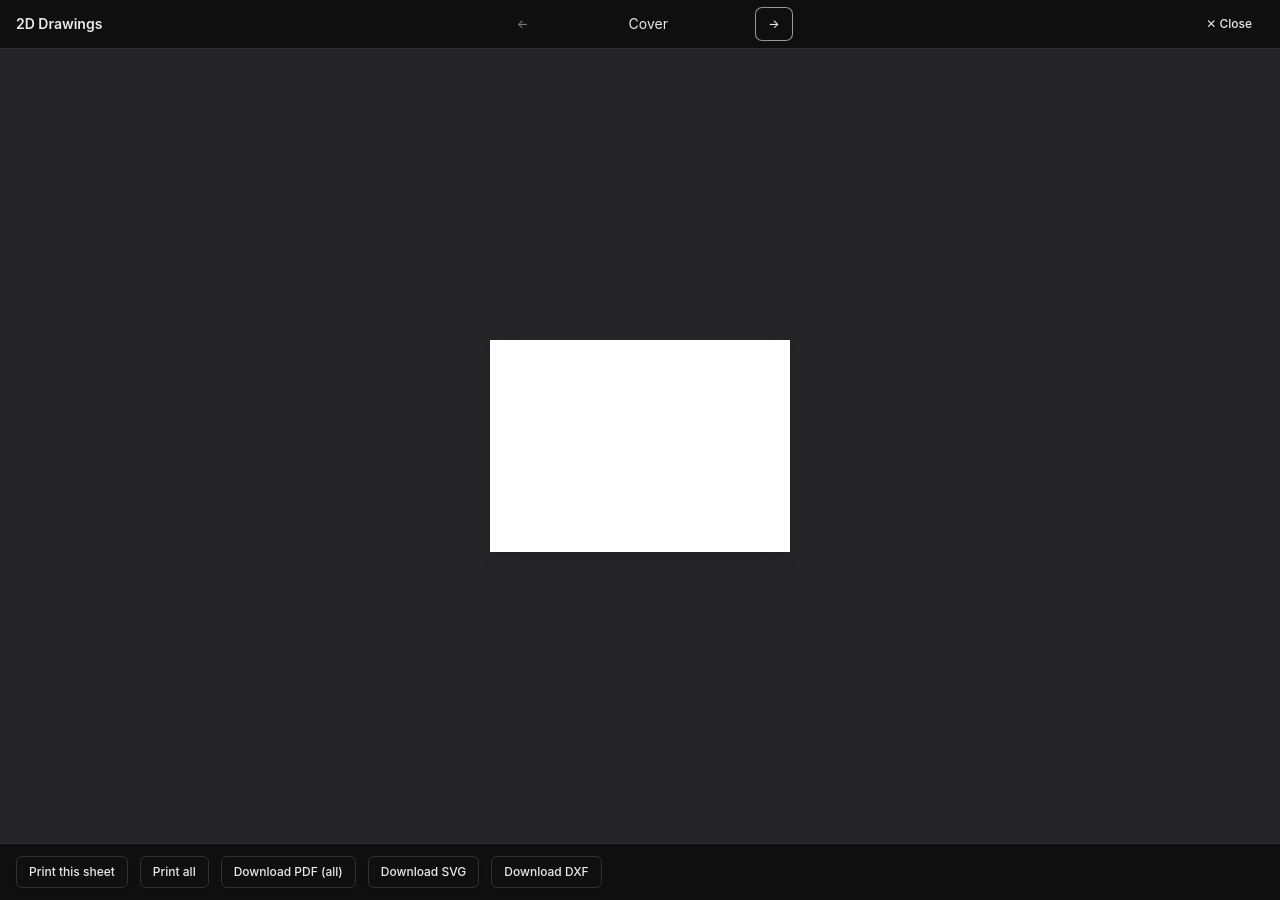
DrawingViewer › Prev button goes back to previous sheet
Click the button "→".
click(774, 24)  # box [756,8,792,40]
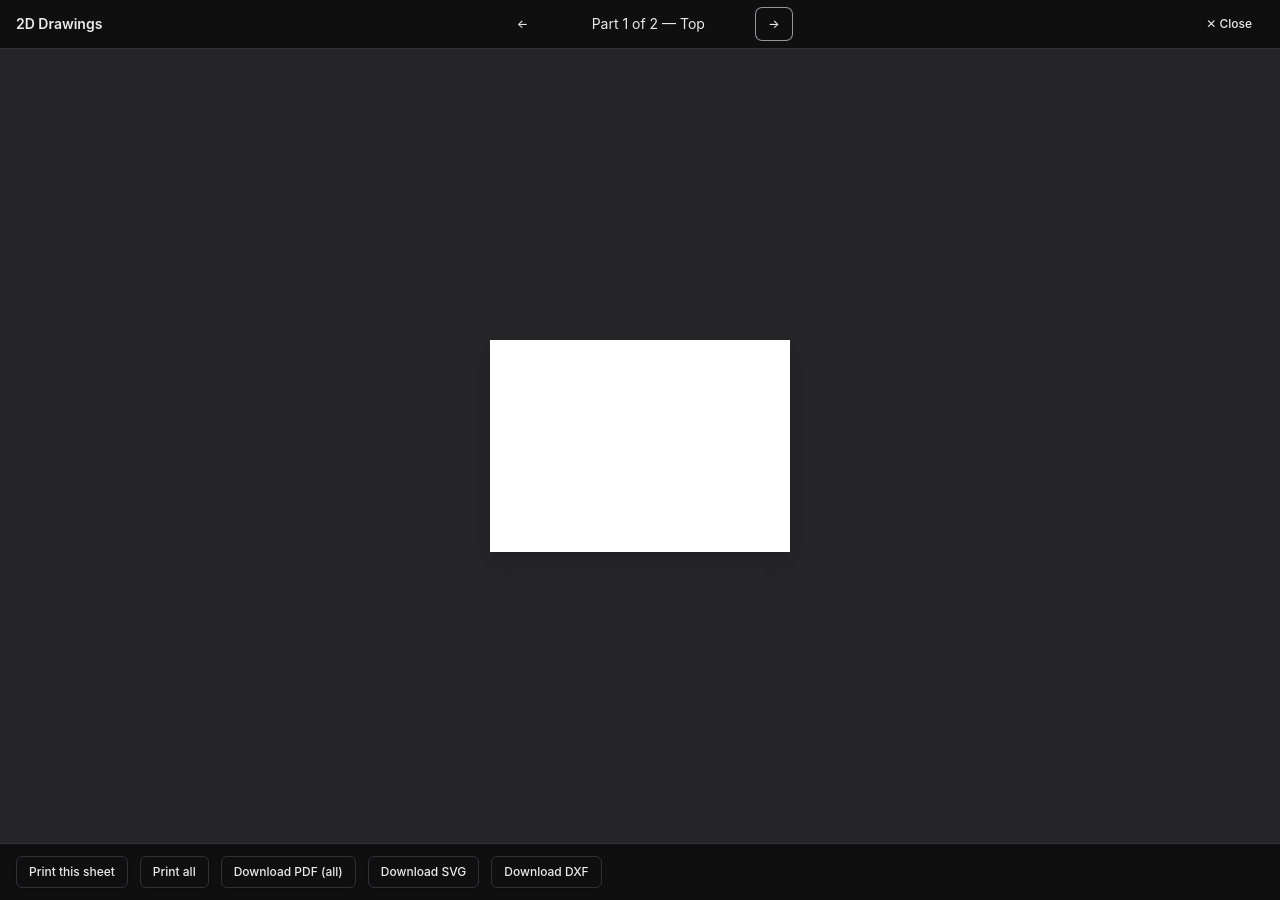
Click the button "←".
click(523, 24)  # box [505,8,540,40]
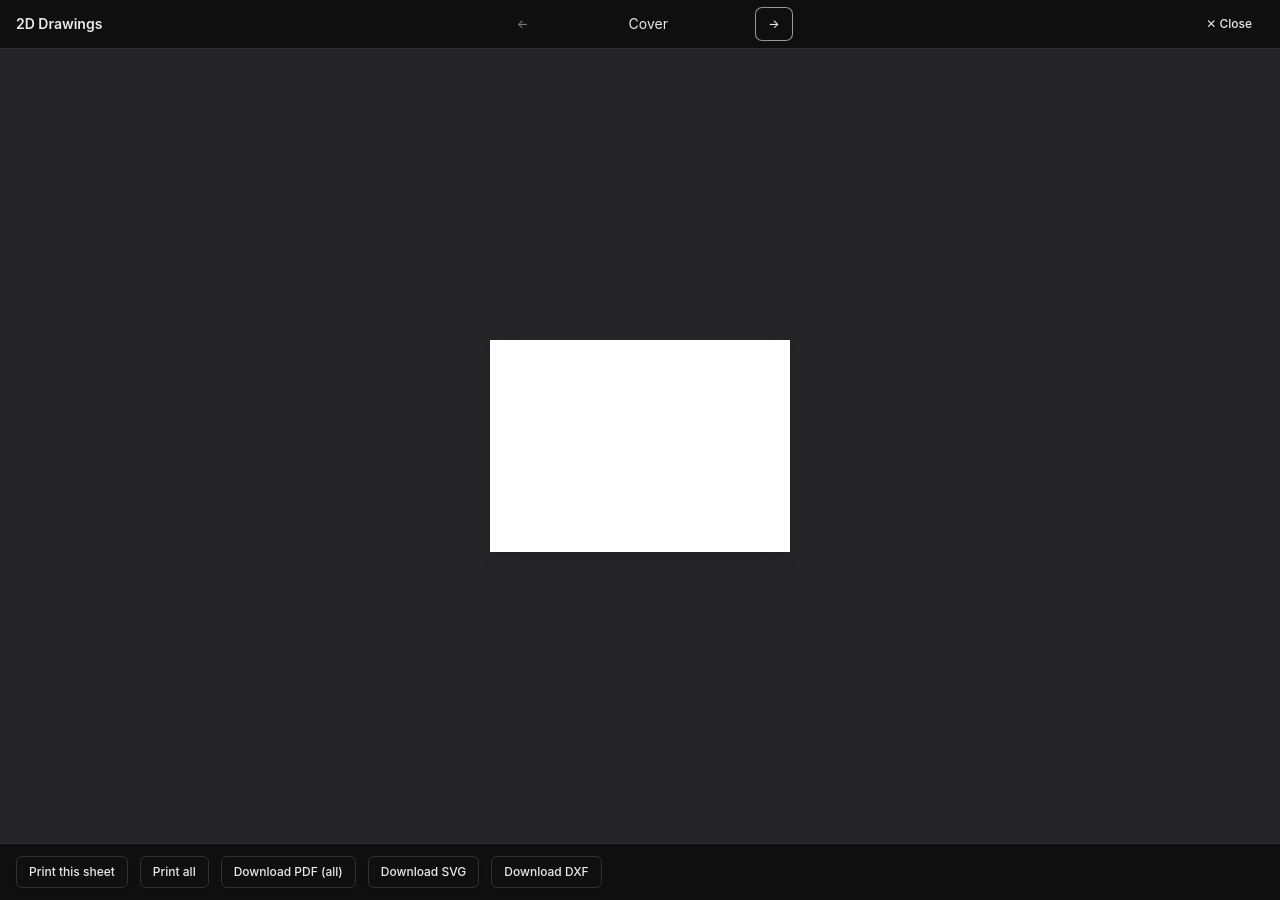
Check: the text "Cover" is shown, box [629,15,668,32]
